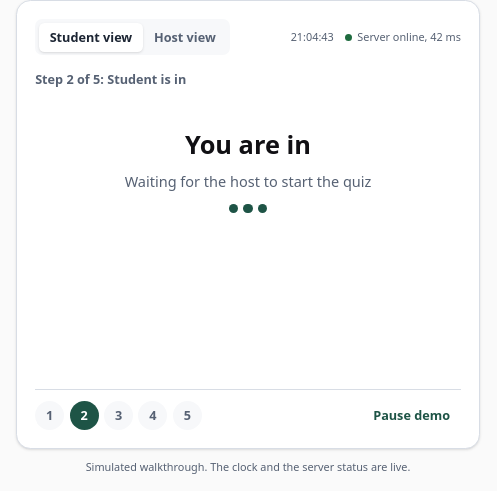
Test case: LiveDemo flow › moves along by itself and stops when paused
Click the button "Pause demo" at (412, 415), box [362, 401, 461, 430]
Wait 20000 ms
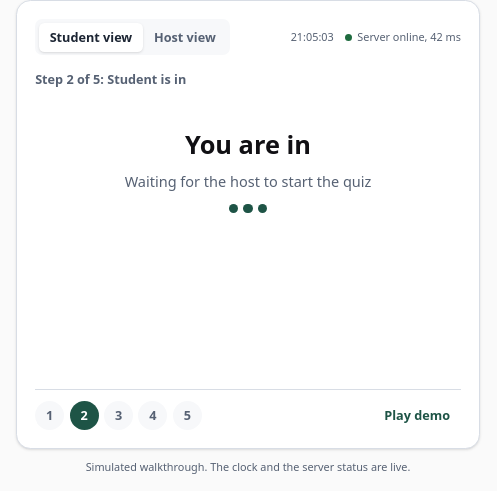
Check: the button "Play demo" is shown, box [373, 401, 461, 430]
